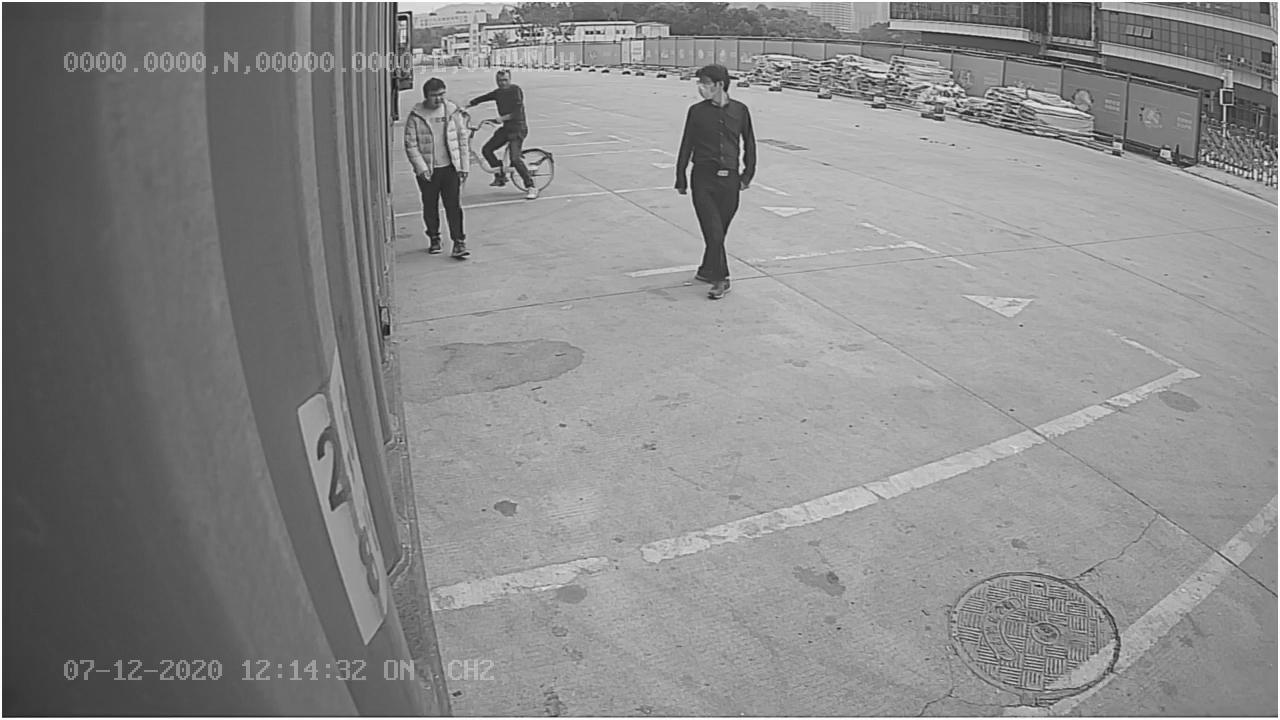person: (675, 63, 759, 301)
